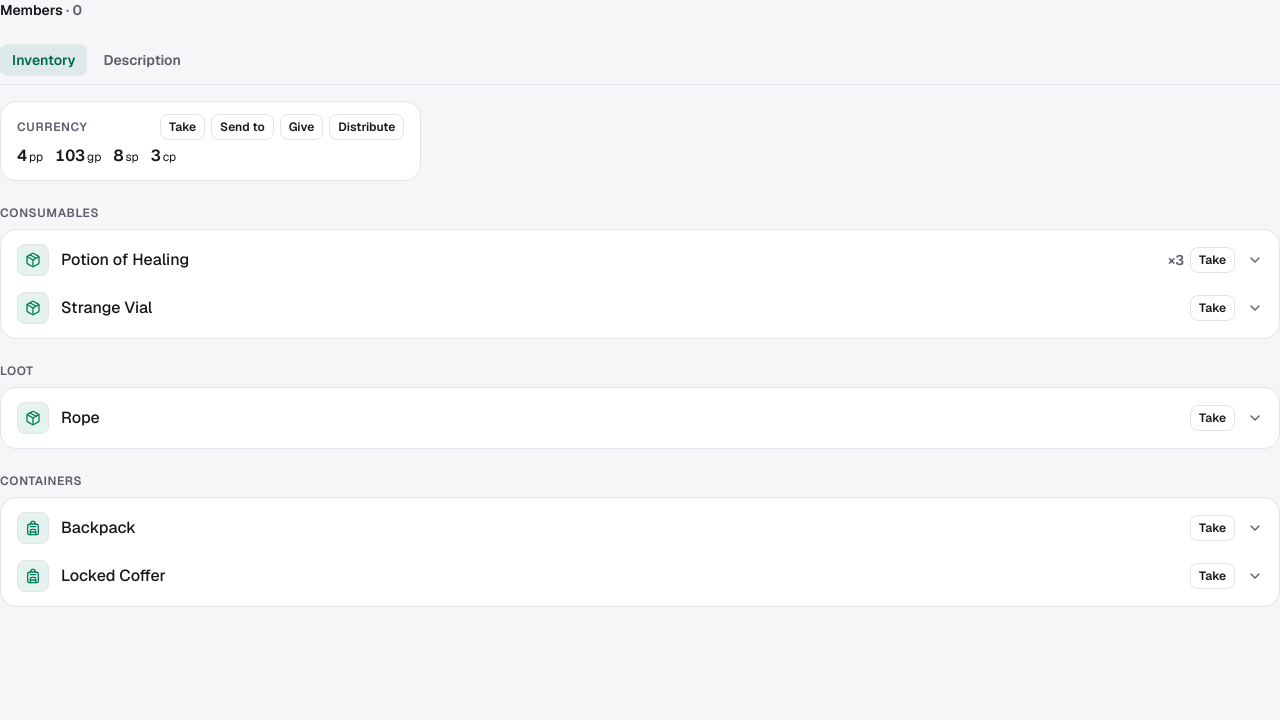
Test case: components/transfers/party-controls › the Currency row › shows one spinner by an item’s name while it’s on its way, its Take and Send to… none
The image size is (1280, 720).
Click the text "Rope" at (80, 418), box [61,406,100,430]
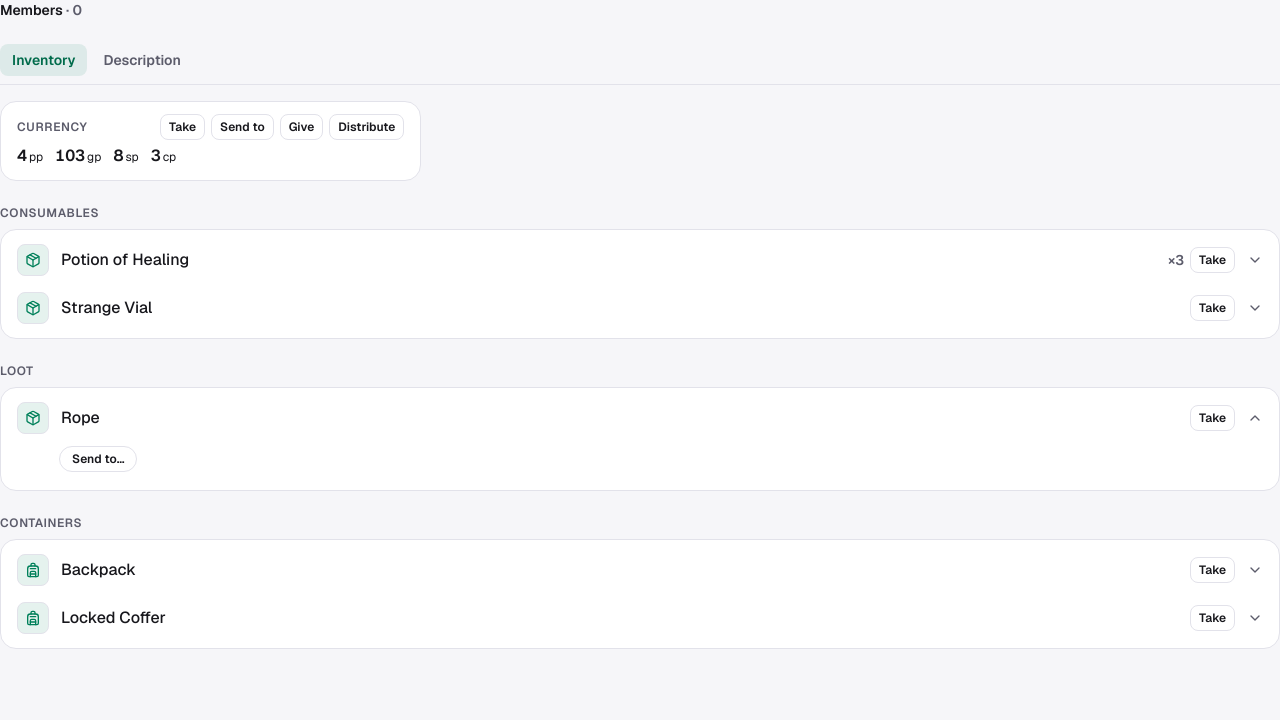
Click the button "Send to…" at (98, 459), box [59,446,138,472]
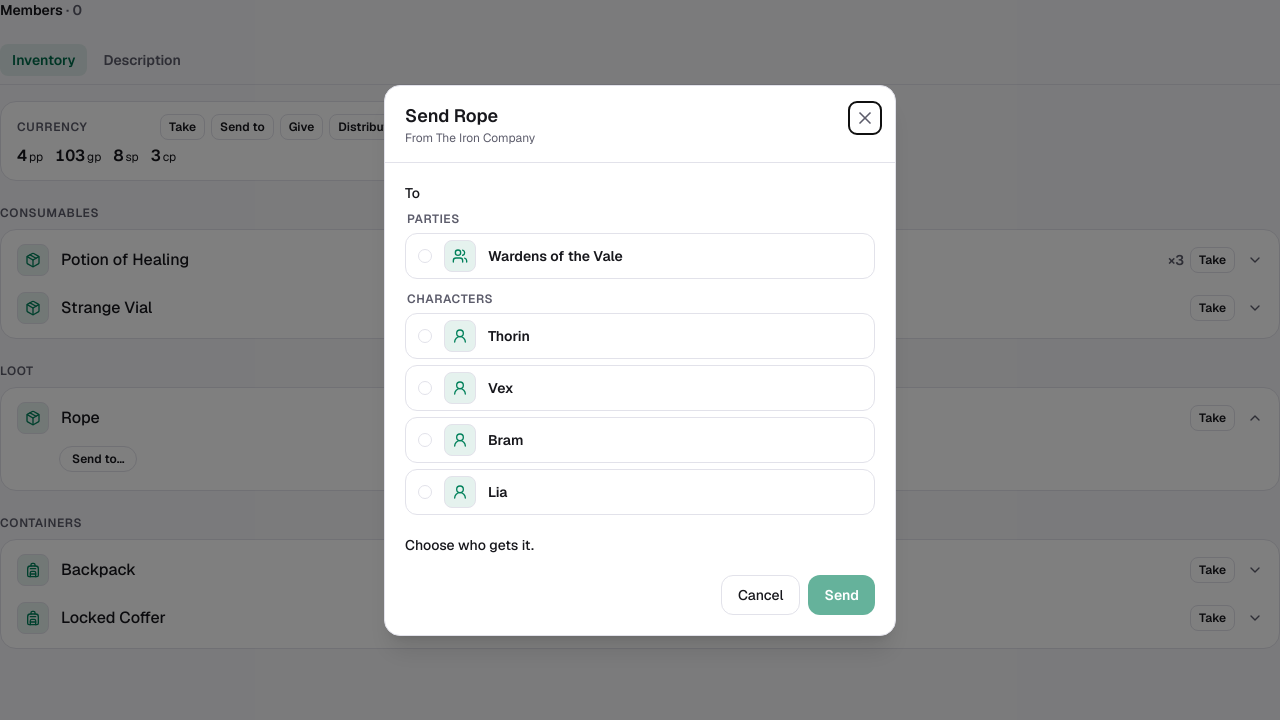
Click the radio button labelled "Vex" at (640, 388), box [405,364,875,410]
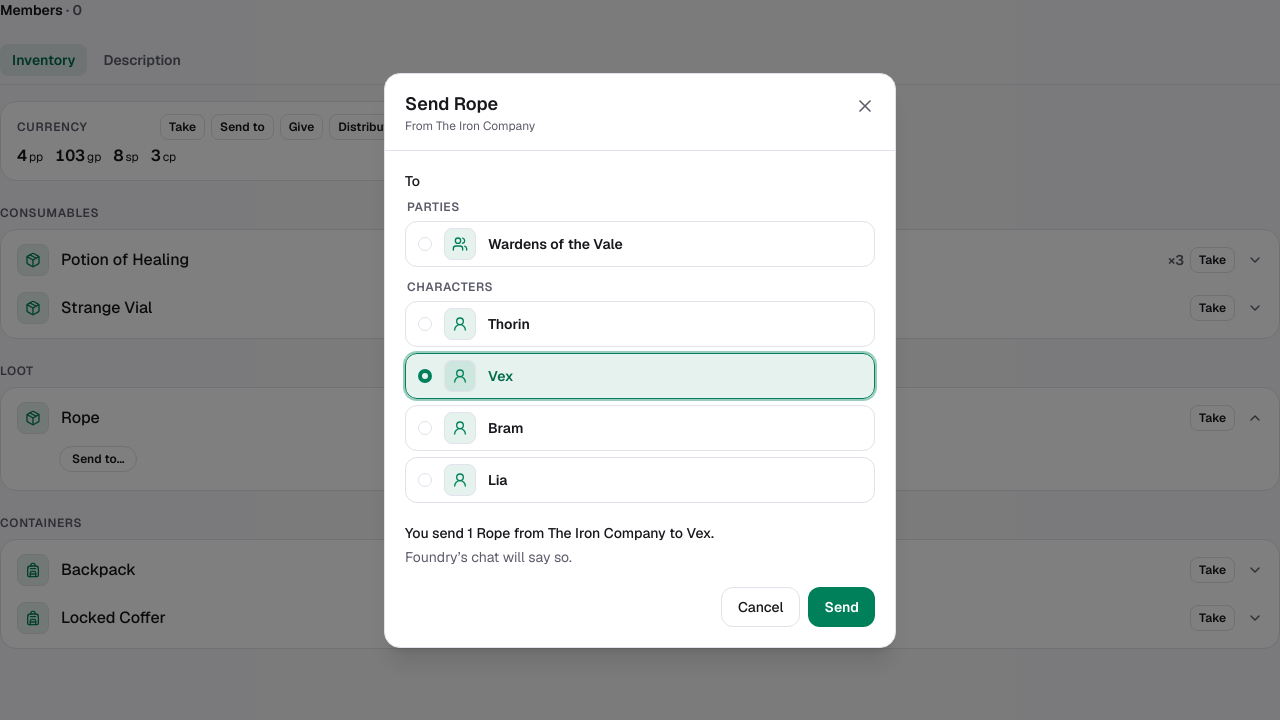
Click the button "Send" at (842, 606), box [808,586,875,626]
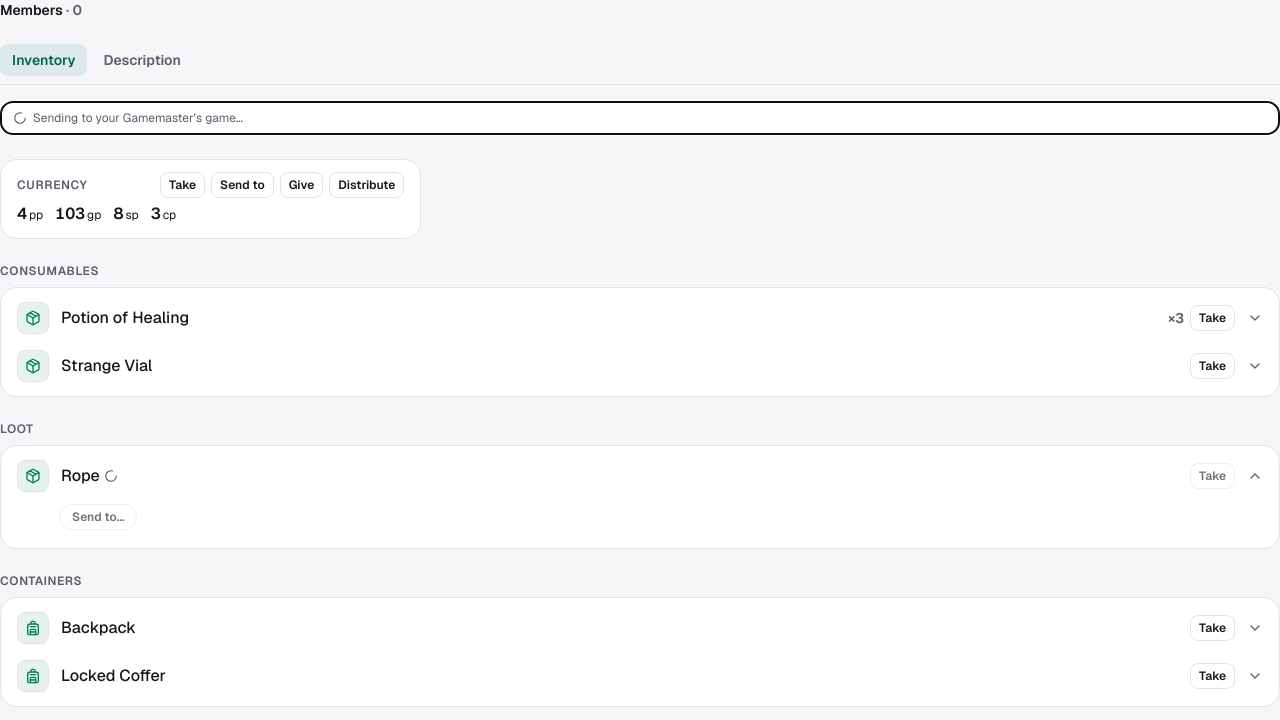
Check: the text "Rope" is shown, box [61,464,100,488]
Check: the button with aria-label "Take Rope" is disabled, box [1190,463,1235,489]
Check: the button "Send to…" is disabled, box [59,504,138,530]
